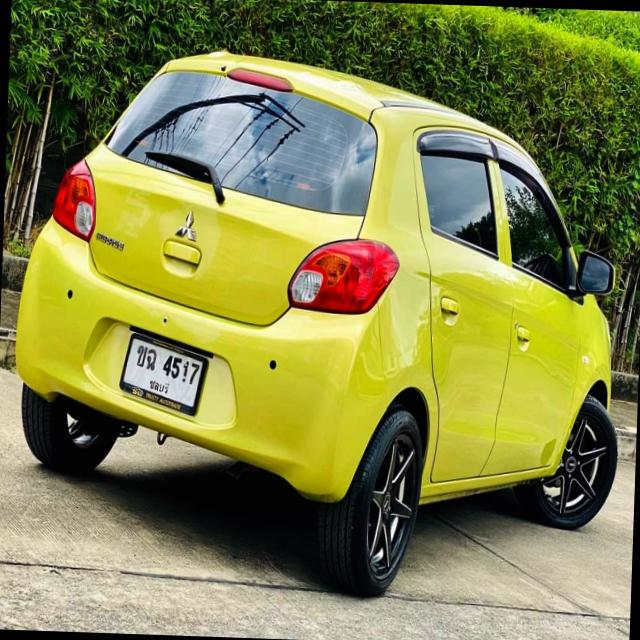license_plate: (118, 328, 210, 417)
